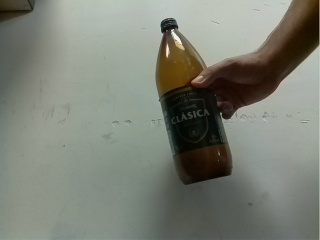pote cristal: (155, 18, 233, 186)
